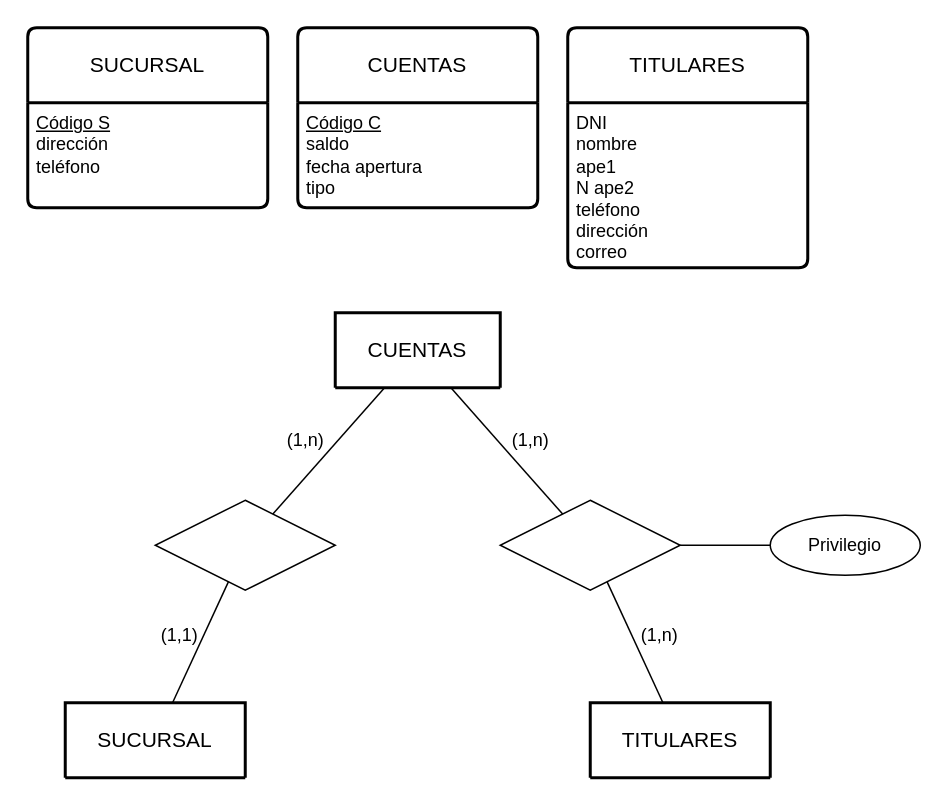
Some shapes in this 947 by 804 pixel diagram are drawn without their labels. Here are the shapes that lost their labels. From the top down, the box of each, then its label:
(154, 499, 335, 590): TIENE 1xN
(499, 499, 680, 590): PERTENECE NxM
